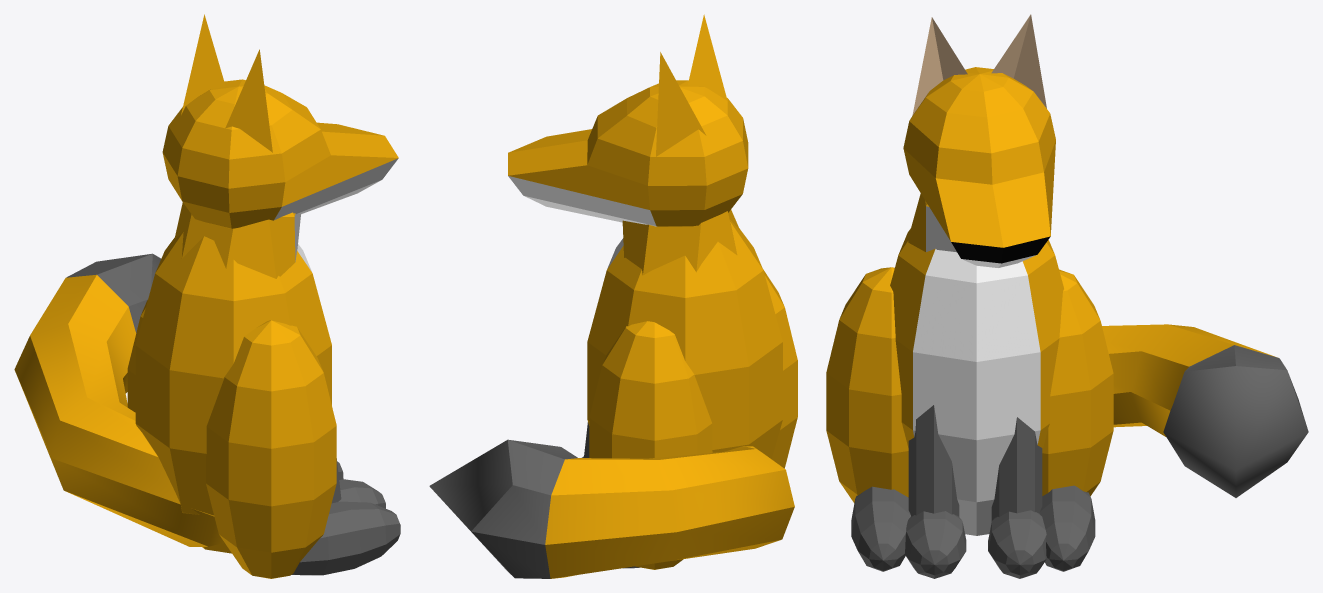
The model's file is fox.fbx.
3 renders of one model, left to right at view 1: azimuth 30°, elevation 25°; view 2: azimuth 150°, elevation 25°; view 3: azimuth 270°, elevation 25°, orthographic.
Visible parts, largest first — view 1: pCylinder3, pSphere31, pSphere29, FOX, pSphere34, pSphere28, pCone5, pCone4, pSphere32, pSphere30; view 2: pCylinder3, pSphere29, FOX, pSphere30, pSphere28, pSphere31, pCone4, pCone5; view 3: pSphere29, pCylinder3, FOX, pSphere31, pSphere30, pSphere34, pCylinder2, pSphere35, pCylinder1, pSphere32, pSphere33, pCone4 (+2 smaller).
Boxes of the visible parts, <box> form: pCylinder3: <box>14,253,224,546</box>; pSphere31: <box>206,320,336,578</box>; pSphere29: <box>135,232,331,553</box>; FOX: <box>162,79,398,228</box>; pSphere34: <box>292,501,400,575</box>; pSphere28: <box>174,202,300,278</box>; pCone5: <box>225,49,272,152</box>; pCone4: <box>181,14,225,114</box>; pSphere32: <box>338,479,385,508</box>; pSphere30: <box>127,300,147,412</box>; pCylinder3: <box>429,439,794,578</box>; pSphere29: <box>587,220,782,458</box>; FOX: <box>508,80,748,226</box>; pSphere30: <box>589,321,712,569</box>; pSphere28: <box>622,209,739,275</box>; pSphere31: <box>763,269,797,468</box>; pCone4: <box>655,52,706,158</box>; pCone5: <box>687,14,727,100</box>; pSphere29: <box>890,228,1063,535</box>; pCylinder3: <box>1102,324,1308,497</box>; FOX: <box>903,67,1055,267</box>; pSphere31: <box>826,267,908,502</box>; pSphere30: <box>1042,269,1113,496</box>; pSphere34: <box>851,486,910,571</box>; pCylinder2: <box>908,405,959,516</box>; pSphere35: <box>1039,485,1095,571</box>; pCylinder1: <box>991,417,1042,521</box>; pSphere32: <box>905,511,966,578</box>; pSphere33: <box>988,510,1046,578</box>; pCone4: <box>991,14,1046,108</box>.
Bounding box in the file's own units: 5.24 × 8.34 × 7.05.
